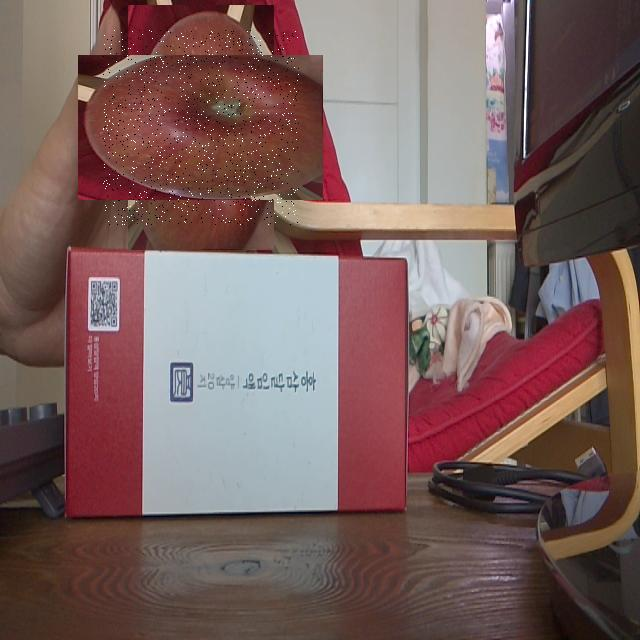apple: (103, 30, 299, 225)
